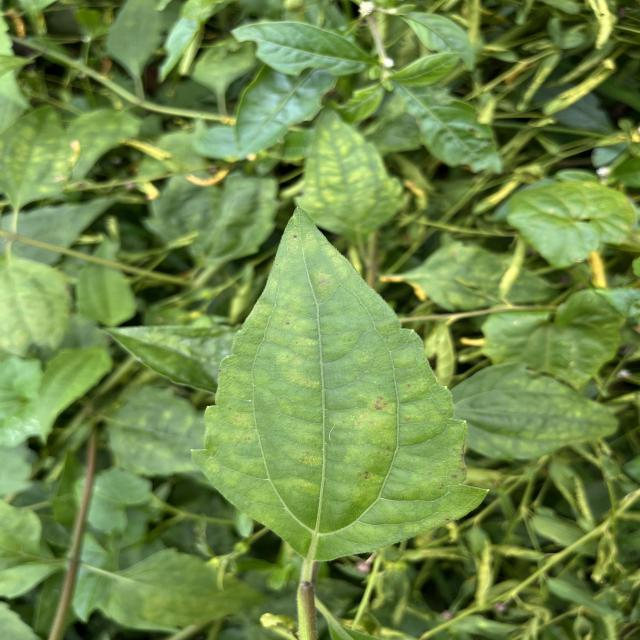Chromolaena odorata: (184, 201, 496, 570)
